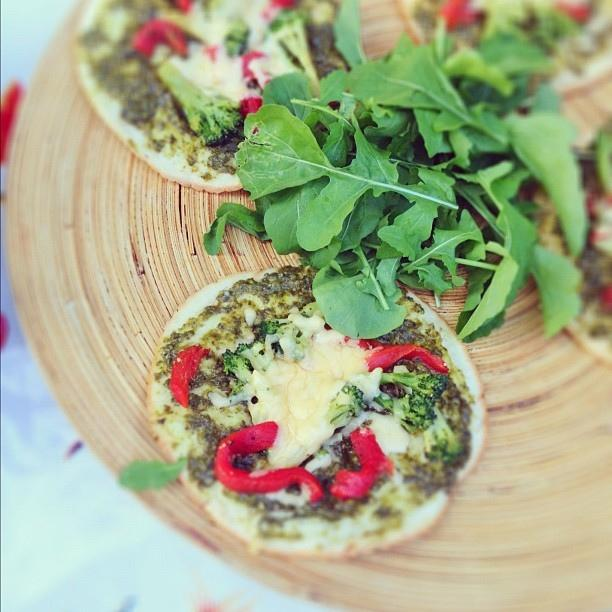bell pepper: (214, 422, 324, 502), (328, 427, 394, 501), (359, 340, 449, 374), (170, 344, 210, 409), (133, 18, 187, 58), (437, 0, 487, 32), (260, 0, 298, 21), (242, 50, 268, 79), (556, 1, 590, 22), (238, 93, 262, 118), (598, 287, 612, 312), (203, 44, 218, 63), (175, 1, 191, 12)
broccoli: (156, 60, 245, 146), (268, 7, 320, 90), (372, 392, 438, 436), (423, 404, 466, 462), (380, 369, 449, 403), (326, 384, 366, 426), (222, 14, 253, 58), (222, 349, 252, 383), (234, 342, 262, 373), (534, 16, 560, 42), (260, 319, 288, 335), (248, 339, 264, 356), (259, 350, 264, 355)
